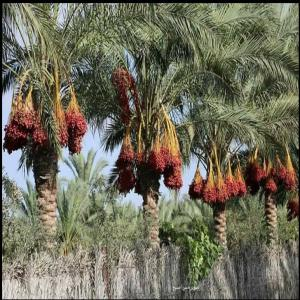palm tree: (2, 3, 298, 255)
